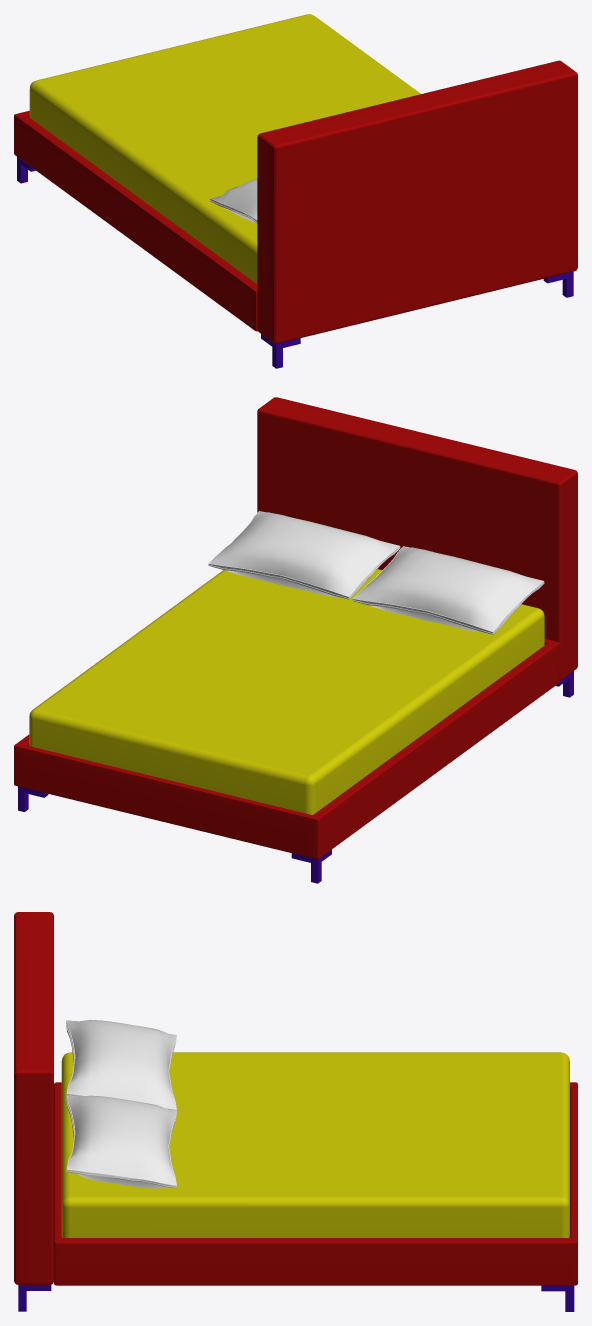
Rendered from bed2.fbx.
3 renders of one model, top to bottom at view 1: azimuth 30°, elevation 25°; view 2: azimuth 150°, elevation 25°; view 3: azimuth 270°, elevation 25°, orthographic. The views are drawn at different scales.
Parts seen in each view (by area): view 1: polySurface5, polySurface4, polySurface1, polySurface9; view 2: polySurface4, polySurface5, polySurface2, polySurface1, polySurface9; view 3: polySurface4, polySurface5, polySurface2, polySurface1, polySurface9.
Boxes of the visible parts, x1=… form: polySurface5: x1=14, y1=60, x2=577, y2=343; polySurface4: x1=29, y1=14, x2=420, y2=283; polySurface1: x1=210, y1=178, x2=257, y2=223; polySurface9: x1=17, y1=157, x2=573, y2=368; polySurface4: x1=29, y1=569, x2=544, y2=814; polySurface5: x1=14, y1=397, x2=577, y2=859; polySurface2: x1=208, y1=511, x2=400, y2=599; polySurface1: x1=352, y1=546, x2=544, y2=634; polySurface9: x1=18, y1=671, x2=573, y2=883; polySurface4: x1=61, y1=1052, x2=569, y2=1237; polySurface5: x1=14, y1=912, x2=577, y2=1285; polySurface2: x1=66, y1=1095, x2=176, y2=1188; polySurface1: x1=66, y1=1019, x2=176, y2=1110; polySurface9: x1=18, y1=1284, x2=574, y2=1311.
Size of the model in its own units: 1.5 by 1.06 by 2.23.
